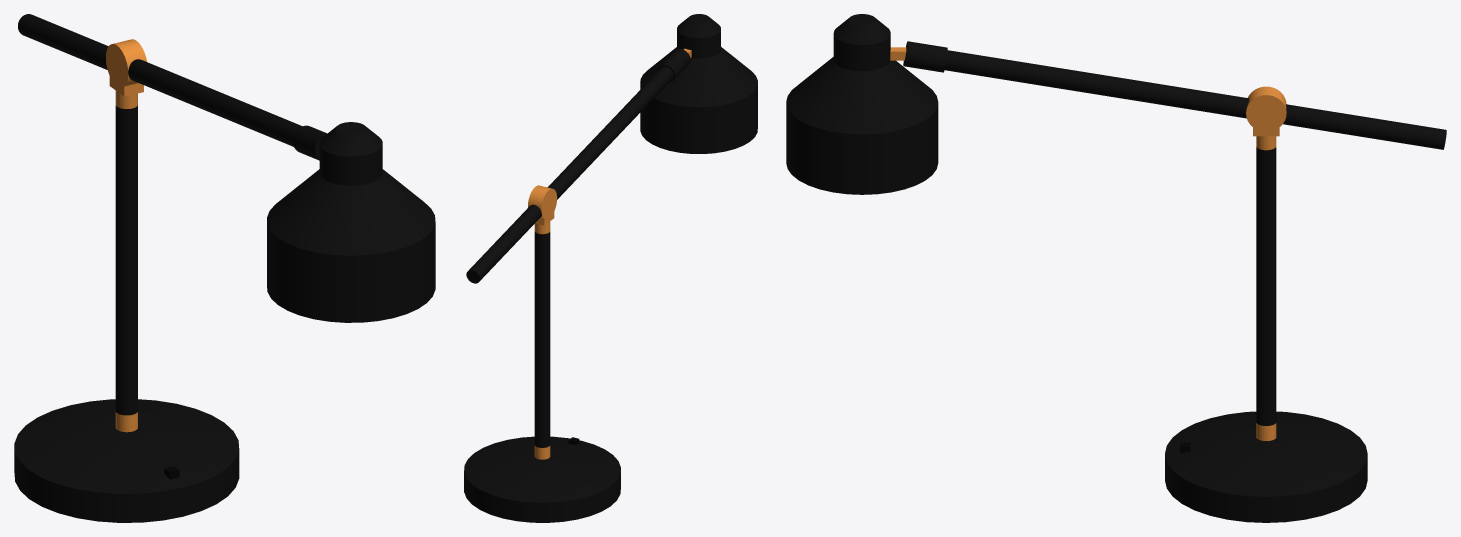
The model's file is TableLamp.fbx.
The picture shows the model from 3 angles, left to right: view 1: azimuth 30°, elevation 25°; view 2: azimuth 150°, elevation 25°; view 3: azimuth 270°, elevation 25°; orthographic projection. The views are drawn at different scales.
Visible parts, largest first — view 1: Cylinder.006, Cone, Cylinder, Cylinder.004, Cylinder.003, Cylinder.005; view 2: Cylinder.006, Cone, Cylinder.004, Cylinder, Cylinder.003, Cylinder.005; view 3: Cylinder.006, Cone, Cylinder.004, Cylinder, Cylinder.003, Cylinder.005.
Boxes of the visible parts, box(x1,y1,x2,y2) form: Cylinder.006: box(267, 122, 435, 322); Cone: box(14, 399, 239, 522); Cylinder: box(115, 105, 137, 415); Cylinder.004: box(18, 14, 302, 146); Cylinder.003: box(106, 39, 146, 87); Cylinder.005: box(292, 125, 327, 160); Cylinder.006: box(640, 14, 757, 153); Cone: box(464, 436, 620, 522); Cylinder.004: box(466, 66, 673, 283); Cylinder: box(534, 232, 550, 447); Cylinder.003: box(528, 185, 557, 219); Cylinder.005: box(658, 48, 690, 81); Cylinder.006: box(786, 14, 938, 194); Cone: box(1165, 411, 1367, 522); Cylinder.004: box(944, 50, 1446, 149); Cylinder: box(1256, 147, 1276, 425); Cylinder.003: box(1246, 86, 1286, 127); Cylinder.005: box(903, 41, 947, 72).
Size of the model in its own units: 200 by 501 by 651.
